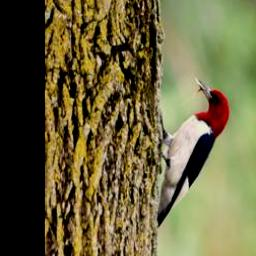Woodpecker: (158, 78, 231, 226)
